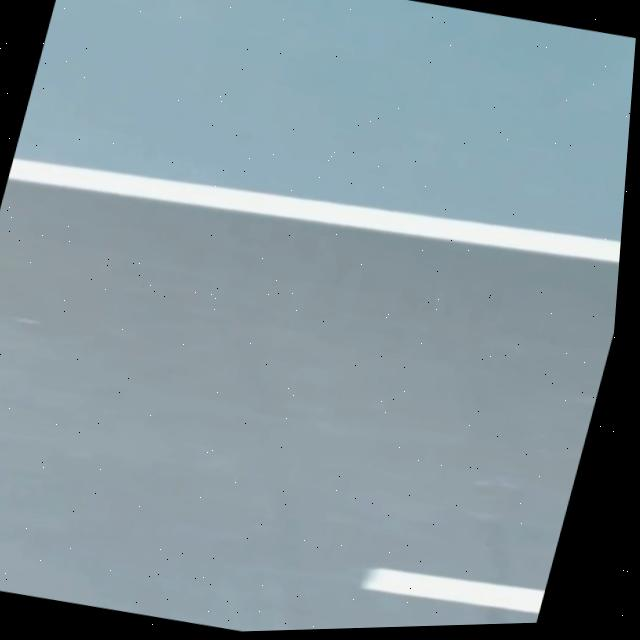center: (362, 567, 545, 612)
left: (9, 157, 621, 261)
